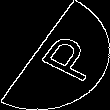P_NW: (16, 26, 94, 84)
